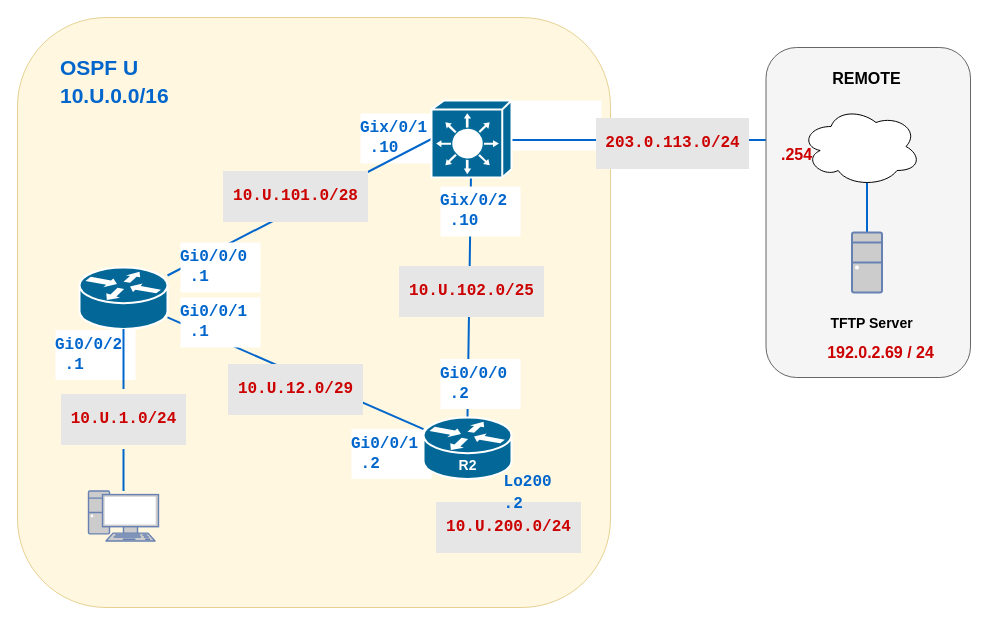
Some shapes in this 988 by 625 pixel diagram are drawn without their labels. The shapes that lost their labels are listed below. From the top down, each one's box as (x1, y1, x2, y2) in pixels, then its label:
(430, 99, 512, 178): SA
(511, 100, 601, 150): Gix/0/24 .U
(78, 266, 168, 330): R1
(87, 490, 159, 542): PC
